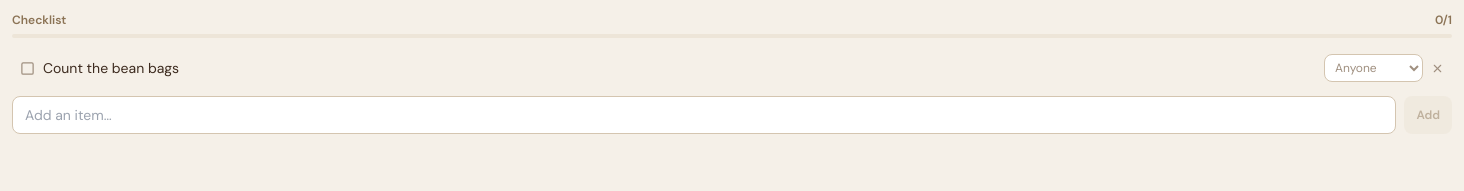
Test: 子项的负责人 › puts the owner back and says why when the write is silently rejected
Select "Amy Cheah" in the dropdown named "Owner of \"Count the bean bags\"". click: (1374, 68)
box: top-left (1324, 54), bottom-right (1423, 82)
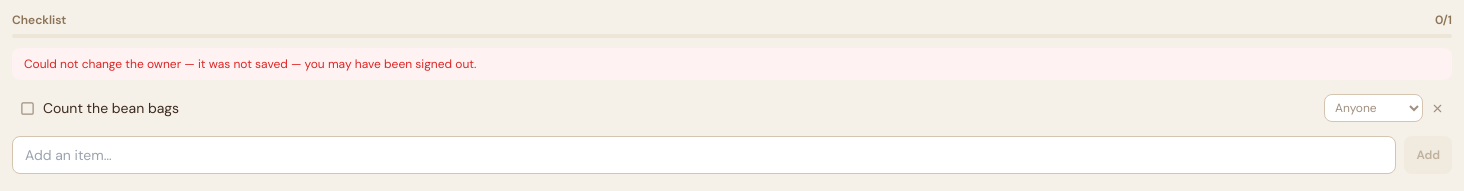
Expected: the text "Could not change the owner" is shown, top-left (24, 56), bottom-right (476, 72)
